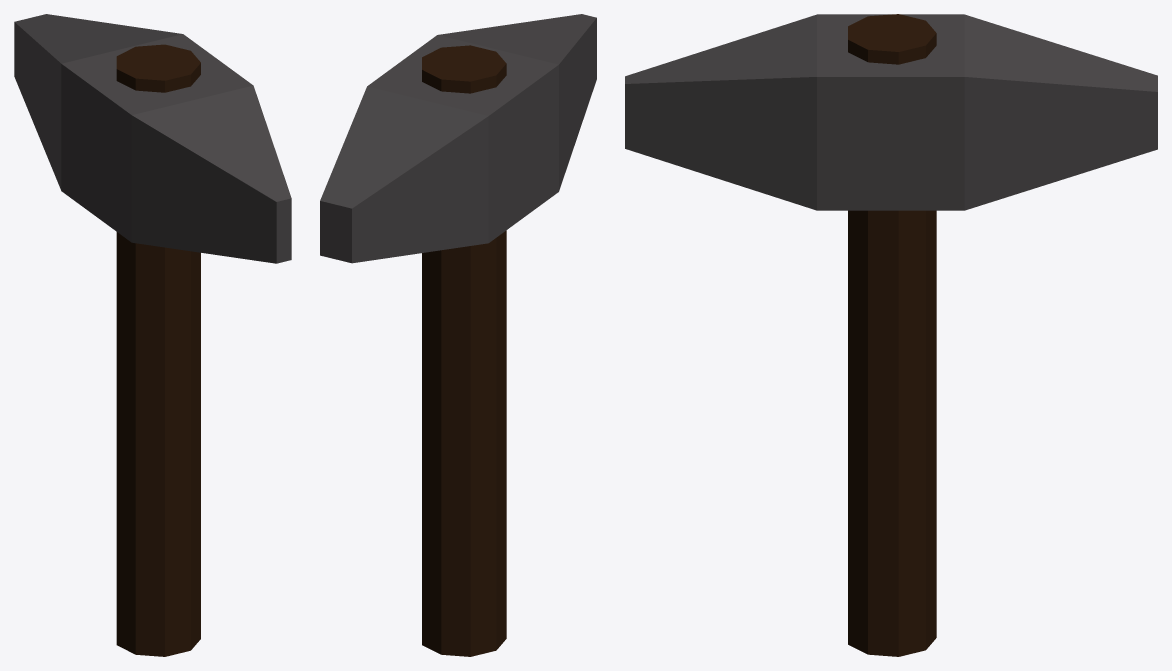
Rendered from кирка.fbx.
3 renders of one model, left to right at view 1: azimuth 30°, elevation 25°; view 2: azimuth 150°, elevation 25°; view 3: azimuth 270°, elevation 25°, orthographic. The views are drawn at different scales.
Visible parts, largest first — view 1: Cube; view 2: Cube; view 3: Cube.
Part boxes in pixels (x1,y1,x2,y2): Cube: (14, 14, 291, 656); Cube: (320, 14, 596, 656); Cube: (625, 14, 1157, 656).
Size of the model in its own units: 200 by 904 by 722.
